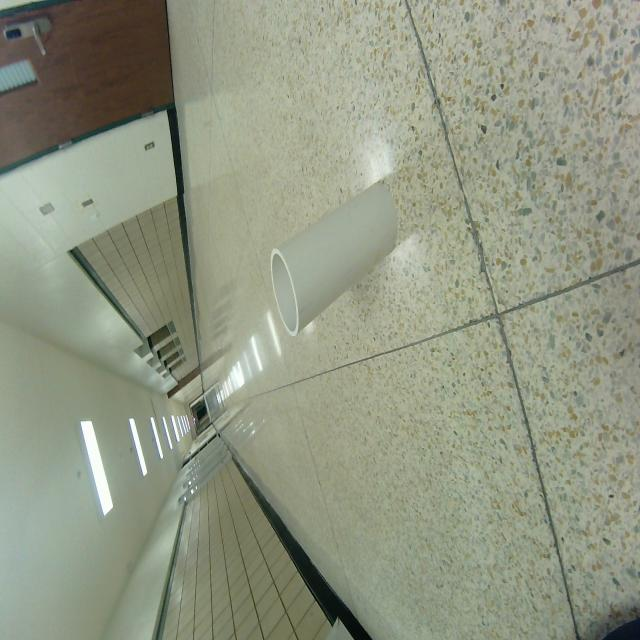coral: (266, 174, 401, 346)
